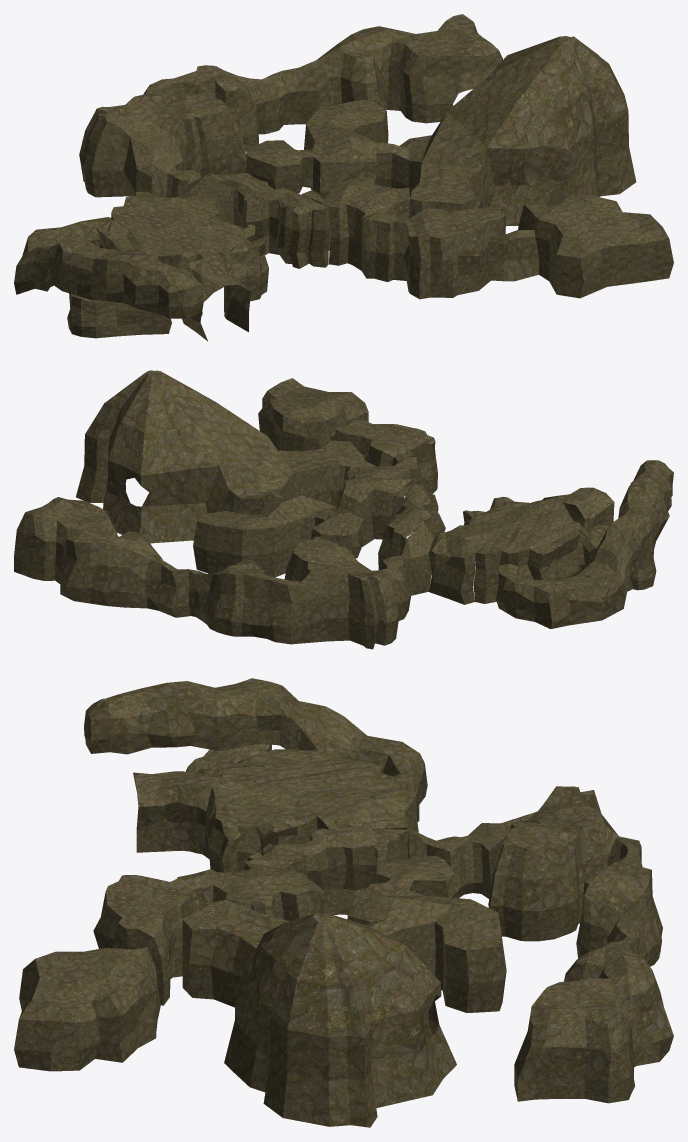
The model's file is cave_Walls1_GEO.fbx.
3 views of the same model, one above another, from view 1: azimuth 30°, elevation 25°; view 2: azimuth 150°, elevation 25°; view 3: azimuth 270°, elevation 25° (orthographic). The views are drawn at different scales.
Visible parts, largest first — view 1: cave_Walls5_GEO, cave_Walls1_GEO, cave_Walls4_GEO, cave_Walls6_GEO, cave_Walls3_GEO, cave_Walls7_GEO, cave_Walls2_GEO, cave_Walls8_GEO; view 2: cave_Walls5_GEO, cave_Walls1_GEO, cave_Walls6_GEO, cave_Walls7_GEO, cave_Walls3_GEO, cave_Walls4_GEO, cave_Walls2_GEO, cave_Walls8_GEO; view 3: cave_Walls1_GEO, cave_Walls5_GEO, cave_Walls6_GEO, cave_Walls4_GEO, cave_Walls7_GEO, cave_Walls3_GEO, cave_Walls2_GEO, cave_Walls8_GEO.
Part boxes in pixels (bbox=[...]): cave_Walls5_GEO: bbox=[79, 14, 502, 197]; cave_Walls1_GEO: bbox=[392, 36, 636, 225]; cave_Walls4_GEO: bbox=[362, 195, 673, 299]; cave_Walls6_GEO: bbox=[67, 190, 268, 341]; cave_Walls3_GEO: bbox=[166, 153, 421, 277]; cave_Walls7_GEO: bbox=[14, 217, 203, 318]; cave_Walls2_GEO: bbox=[304, 99, 394, 199]; cave_Walls8_GEO: bbox=[245, 140, 313, 193]; cave_Walls5_GEO: bbox=[14, 497, 411, 649]; cave_Walls1_GEO: bbox=[76, 370, 364, 543]; cave_Walls6_GEO: bbox=[428, 487, 656, 604]; cave_Walls7_GEO: bbox=[496, 460, 673, 628]; cave_Walls3_GEO: bbox=[279, 460, 445, 595]; cave_Walls4_GEO: bbox=[258, 378, 437, 494]; cave_Walls2_GEO: bbox=[193, 491, 336, 577]; cave_Walls8_GEO: bbox=[311, 510, 363, 558]; cave_Walls1_GEO: bbox=[182, 899, 456, 1127]; cave_Walls5_GEO: bbox=[468, 786, 673, 1103]; cave_Walls6_GEO: bbox=[133, 744, 418, 872]; cave_Walls4_GEO: bbox=[14, 869, 213, 1071]; cave_Walls7_GEO: bbox=[84, 678, 427, 821]; cave_Walls3_GEO: bbox=[211, 825, 474, 920]; cave_Walls2_GEO: bbox=[347, 882, 506, 1012]; cave_Walls8_GEO: bbox=[375, 856, 458, 897].
Bounding box in the file's own units: 84.53 × 19.5 × 66.36.
